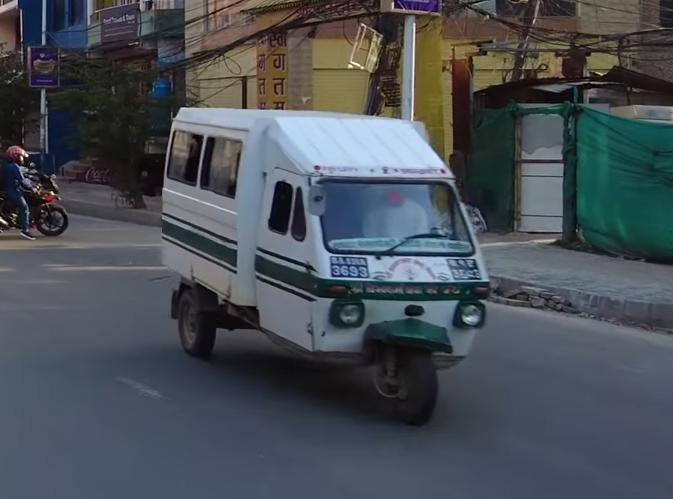bike: (0, 169, 71, 238)
tempo: (161, 101, 496, 426)
